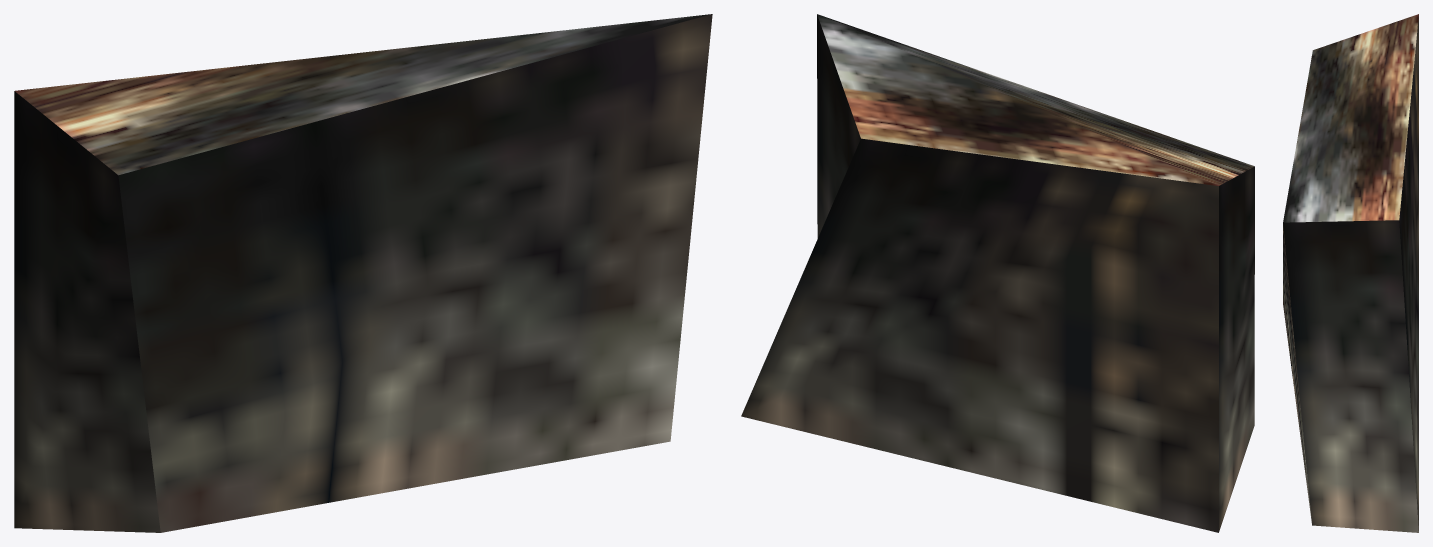
File: USA - Base Infrastructure - Power Plant - Damage State 27 - ABPWRPLANT_d27.glb
3 renders of one model, left to right at view 1: azimuth 30°, elevation 25°; view 2: azimuth 150°, elevation 25°; view 3: azimuth 270°, elevation 25°, orthographic. The views are drawn at different scales.
Parts seen in each view (by area): view 1: ABPWRPLANT_D27; view 2: ABPWRPLANT_D27; view 3: ABPWRPLANT_D27.
Boxes of the visible parts, x1=… form: ABPWRPLANT_D27: x1=14, y1=14, x2=712, y2=532; ABPWRPLANT_D27: x1=741, y1=14, x2=1254, y2=532; ABPWRPLANT_D27: x1=1283, y1=14, x2=1418, y2=532.
Size of the model in its own units: 9.24 by 6.41 by 2.54.
1 material, 1 textured.
